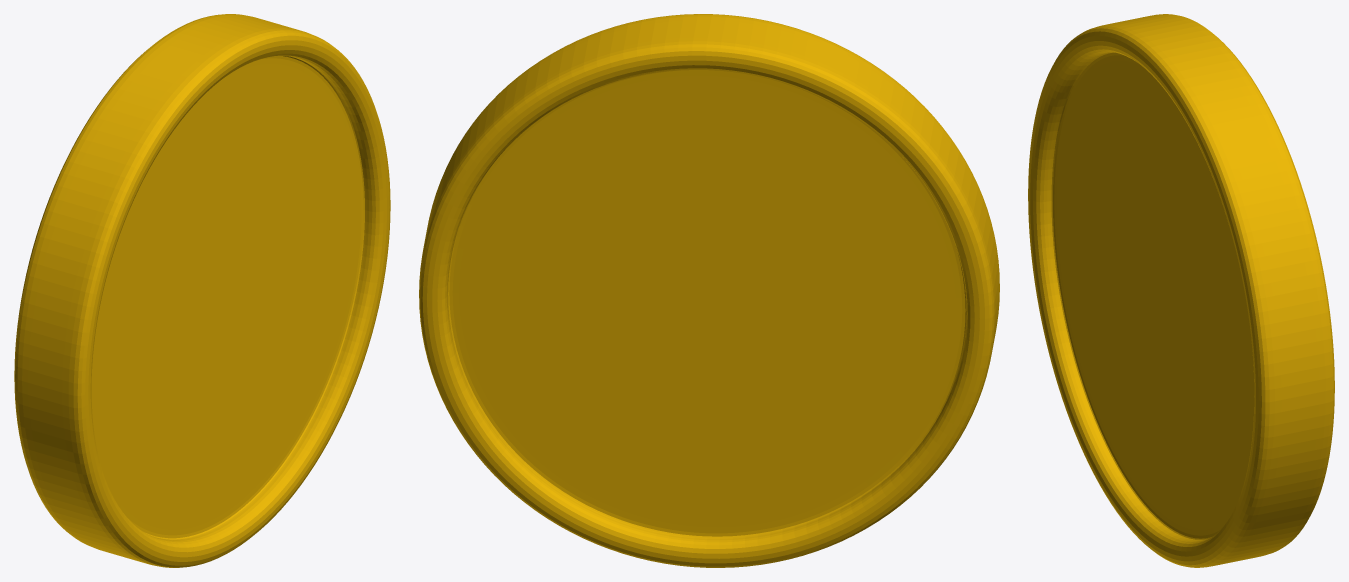
The model's file is gold.fbx.
3 views of the same model, side by side, from view 1: azimuth 30°, elevation 25°; view 2: azimuth 150°, elevation 25°; view 3: azimuth 270°, elevation 25° (orthographic). The views are drawn at different scales.
Parts seen in each view (by area): view 1: Cylinder.001; view 2: Cylinder.001; view 3: Cylinder.001.
Part boxes in pixels (x1,y1,x2,y2): Cylinder.001: (14, 14, 390, 567); Cylinder.001: (419, 14, 999, 567); Cylinder.001: (1028, 14, 1334, 567).
Bounding box in the file's own units: 190 × 199 × 110.
